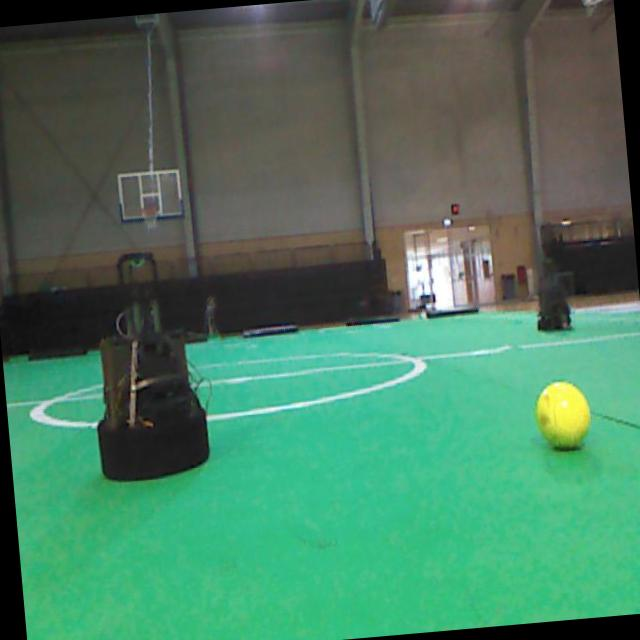ball: (535, 380, 589, 448)
robot: (97, 296, 208, 479), (537, 257, 570, 329)
